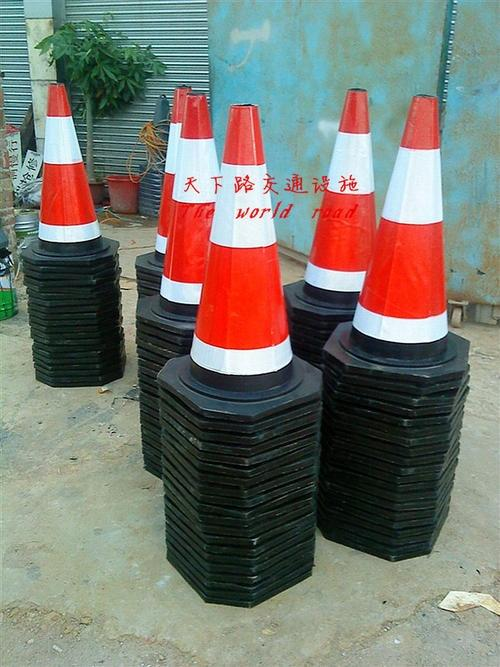cone_barrel: (181, 108, 304, 402), (347, 99, 463, 372), (298, 96, 385, 311), (149, 93, 227, 319), (22, 82, 114, 259)
